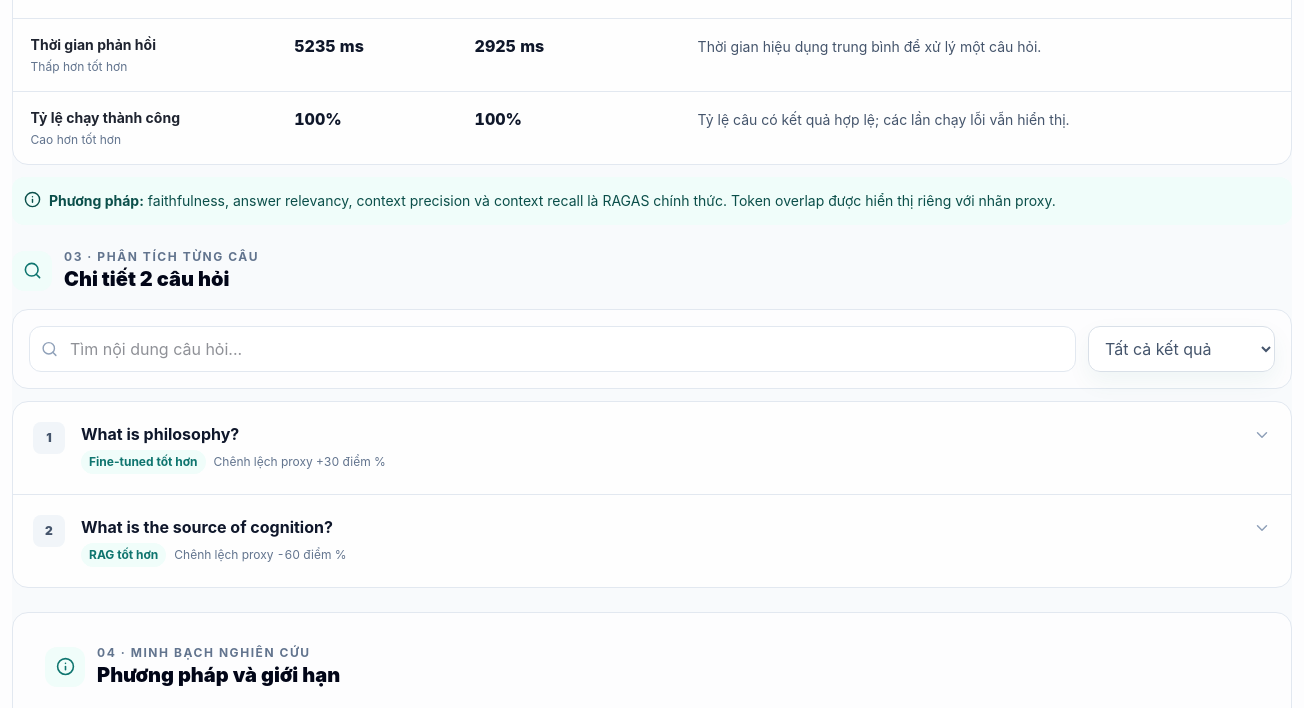
it: filters question rows by winner and expands evidence without relying on color
The width and height of the screenshot is (1304, 708).
(page scrolled)
Check: the text "What is philosophy?" is shown, box [81,424,239,444]
Select "RAG tốt hơn" in the dropdown named "Lọc kết quả" at [1182, 349], box [1088,326,1275,372]
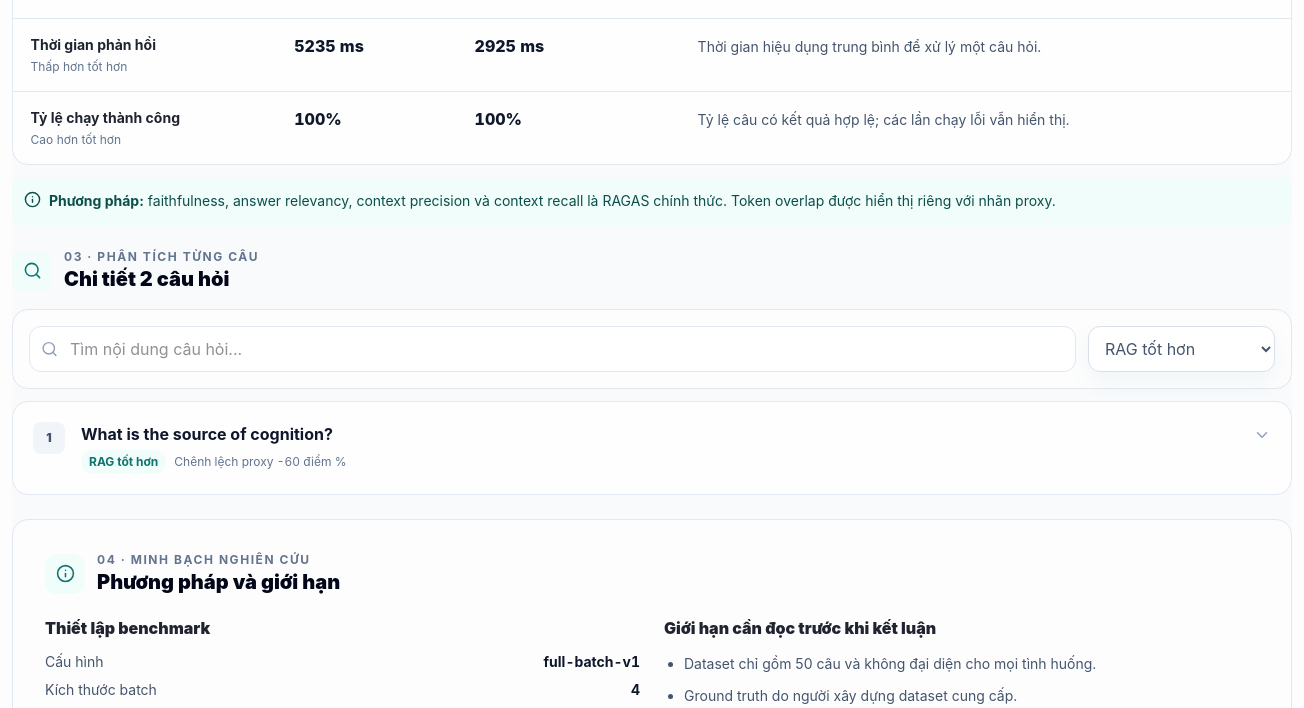
Check: the button "What is philosophy?" is gone
Click the text "What is the source of cognition?" at [207, 434], box [81,424,333,444]
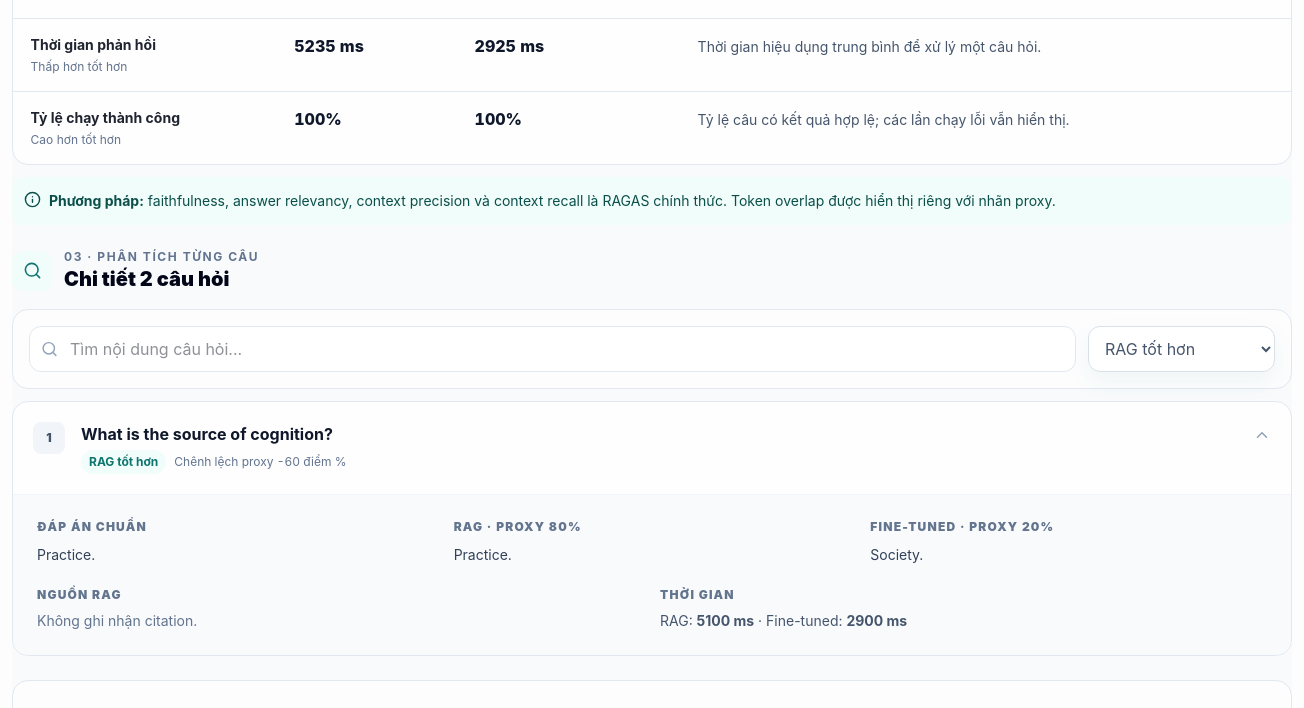
Check: the text "Đáp án chuẩn" is shown, box [37,519,147,534]
Check: the text "Practice." is shown 2 times, box [37,546,95,563]; [454,546,512,563]
